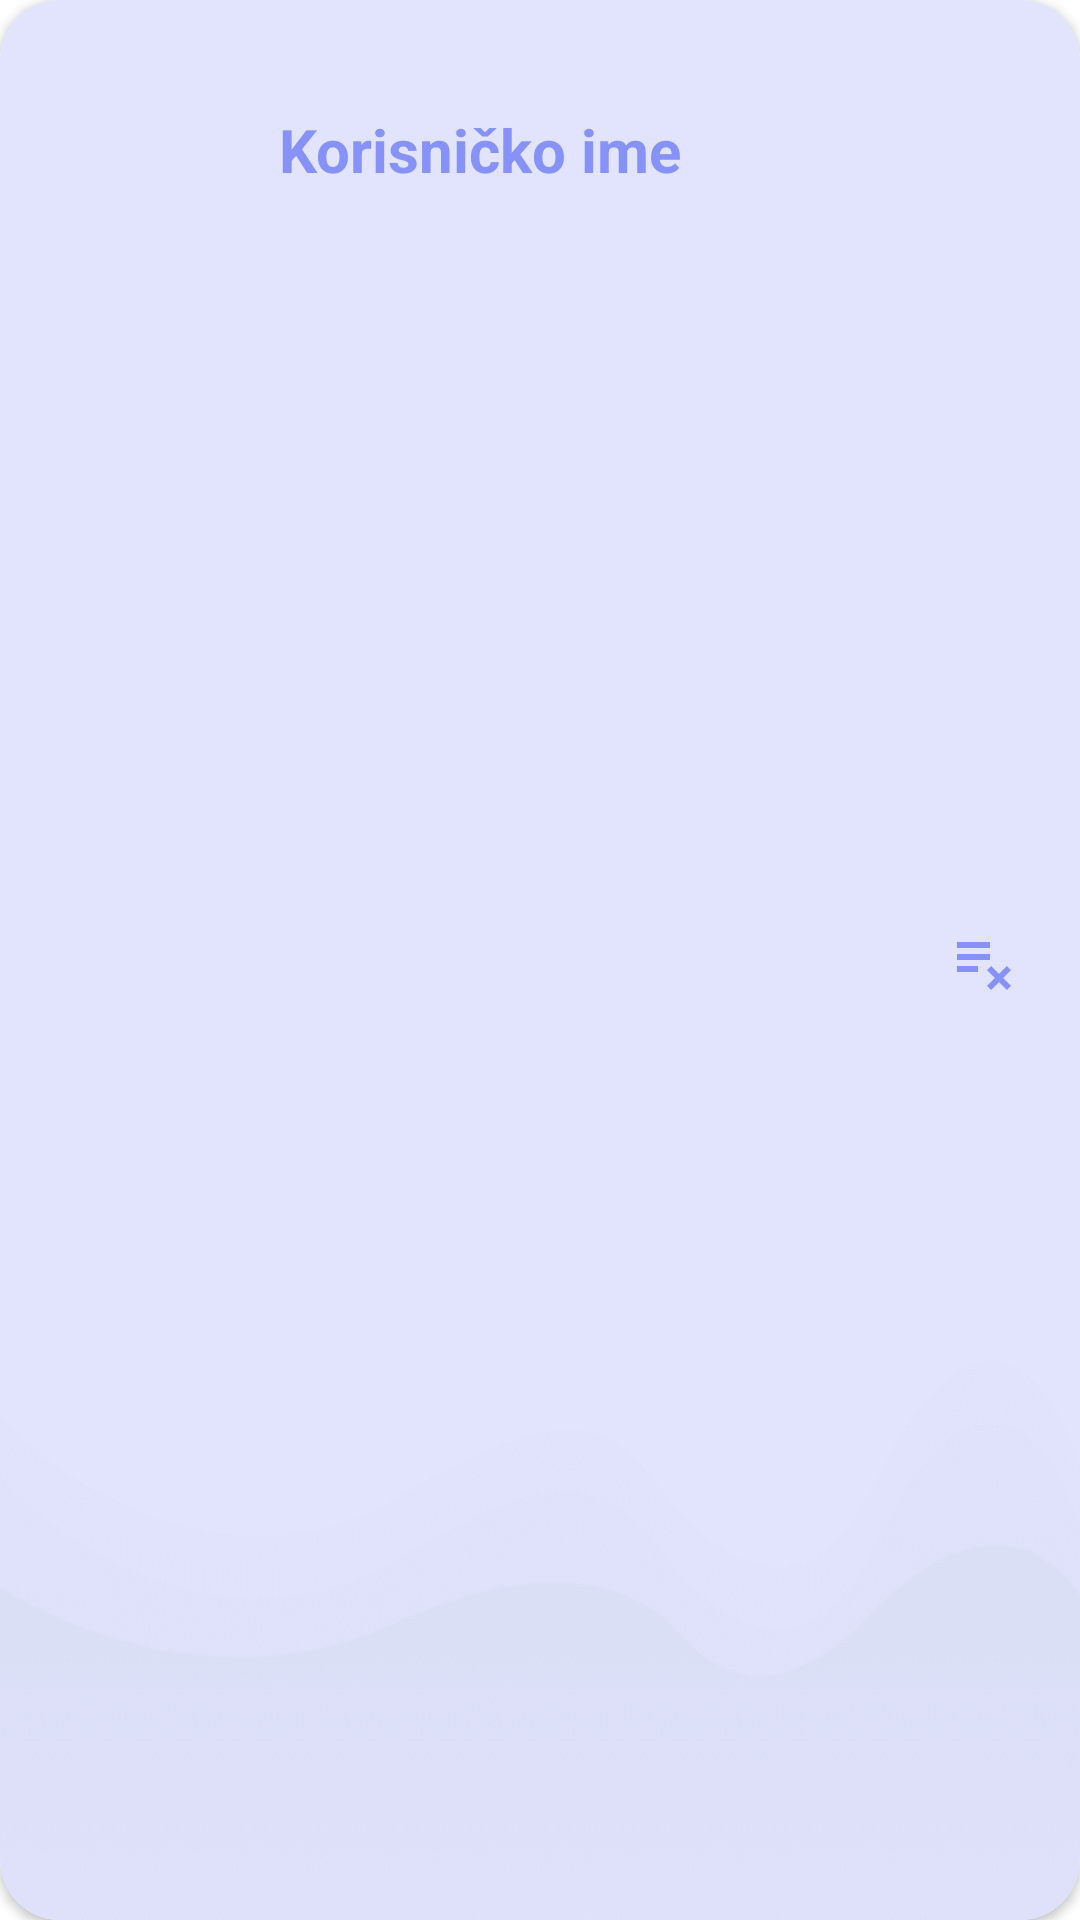

Icons on this 1080px×1920px Android screen, each with the point to tap as (x,y):
remove lavender: (984,966)
